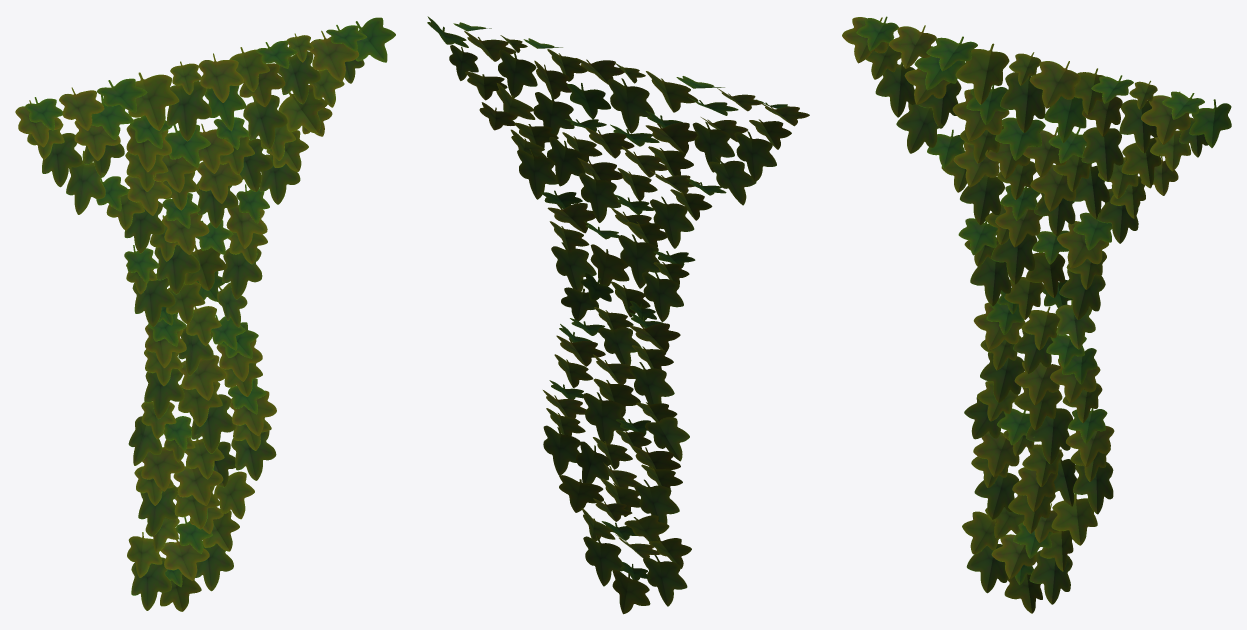
File: ivy_y_01a.fbx
3 views of the same model, side by side, from view 1: azimuth 30°, elevation 25°; view 2: azimuth 150°, elevation 25°; view 3: azimuth 330°, elevation 25° (orthographic).
Visible parts, largest first — view 1: ivy_y_01a; view 2: ivy_y_01a; view 3: ivy_y_01a.
Part boxes in pixels (bbox=[...]): ivy_y_01a: bbox=[15, 17, 395, 611]; ivy_y_01a: bbox=[427, 16, 809, 614]; ivy_y_01a: bbox=[842, 16, 1231, 613].
Size of the model in its own units: 145 by 18.24 by 201.
1 material, 1 textured.
